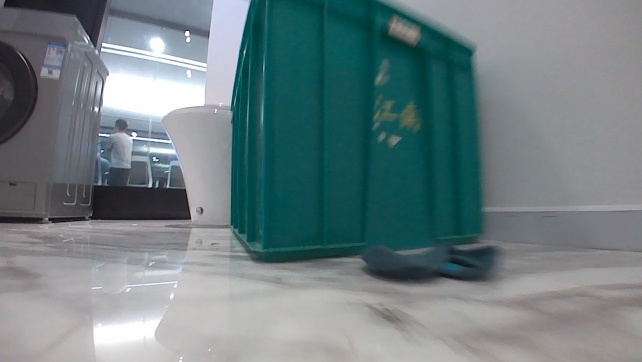socks: (359, 240, 500, 285)
toilet: (159, 102, 235, 227)
washing_machine: (0, 0, 114, 226)
